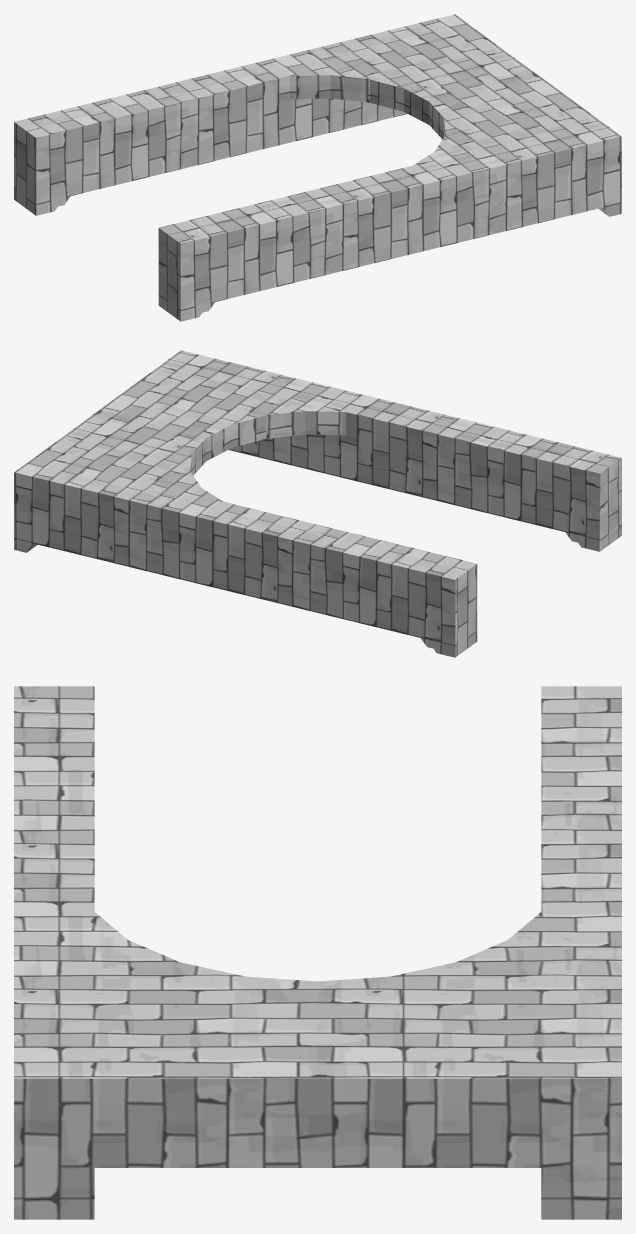
The model's file is StationWall_A_001.fbx.
3 views of the same model, one above another, from view 1: azimuth 30°, elevation 25°; view 2: azimuth 150°, elevation 25°; view 3: azimuth 270°, elevation 25° (orthographic). The views are drawn at different scales.
Visible parts, largest first — view 1: StationWall_A_001; view 2: StationWall_A_001; view 3: StationWall_A_001.
Boxes of the visible parts, left/top/right/bottom form: StationWall_A_001: left=14, top=14, right=621, bottom=321; StationWall_A_001: left=14, top=350, right=621, bottom=657; StationWall_A_001: left=14, top=686, right=621, bottom=1219.
Size of the model in its own units: 539 by 91.23 by 353.
Materials: 1 (1 with a texture image).
